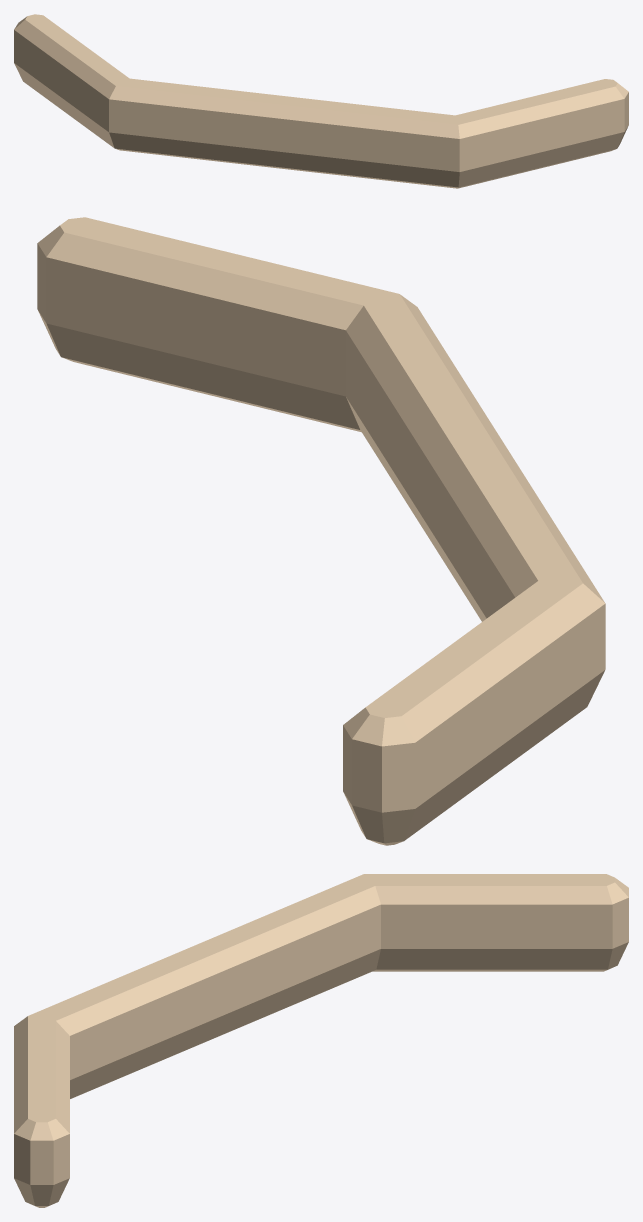
The model's file is opengameart-modular-temple-3d-models-2_1.glb.
3 renders of one model, top to bottom at view 1: azimuth 30°, elevation 25°; view 2: azimuth 150°, elevation 25°; view 3: azimuth 270°, elevation 25°, orthographic. The views are drawn at different scales.
Visible parts, largest first — view 1: object1; view 2: object1; view 3: object1.
Part boxes in pixels (left/top/right/bottom): object1: left=14, top=14, right=628, bottom=188; object1: left=37, top=217, right=605, bottom=845; object1: left=14, top=874, right=628, bottom=1207.
Bounding box in the file's own units: 2.2 × 0.35 × 2.2.
